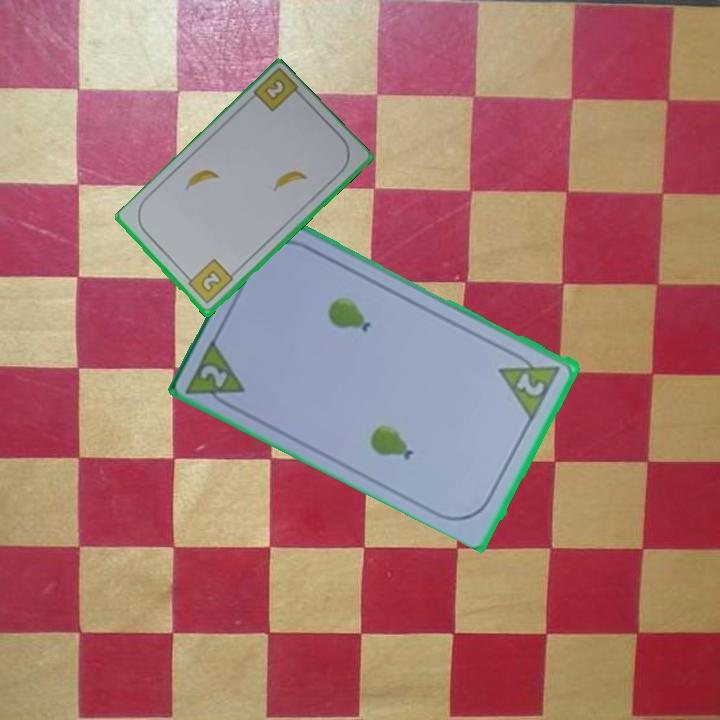2b: (182, 256, 236, 307), (263, 77, 286, 101)
2p: (183, 333, 250, 414), (496, 346, 564, 421)
